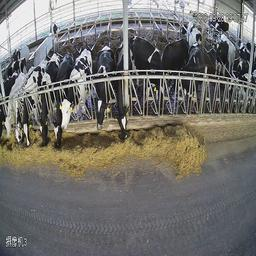cow: (128, 32, 173, 104), (61, 47, 91, 128), (33, 47, 54, 144), (113, 41, 132, 141), (94, 48, 115, 138), (174, 49, 205, 99), (22, 68, 33, 147), (233, 68, 256, 104), (3, 71, 15, 139), (209, 39, 231, 74), (54, 59, 62, 148), (14, 69, 22, 146), (180, 22, 202, 46), (187, 7, 210, 26)
